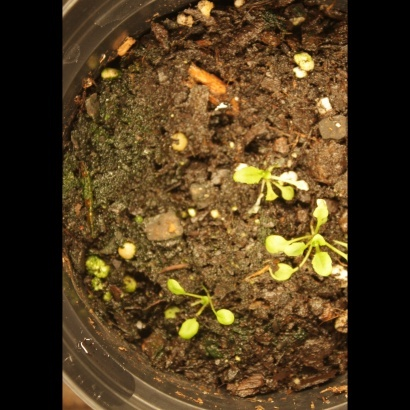leaf: (261, 257, 298, 286), (164, 274, 196, 301), (229, 162, 264, 185), (311, 198, 335, 231), (178, 311, 202, 343), (215, 303, 243, 330), (311, 250, 335, 280), (264, 231, 287, 260), (280, 182, 303, 205), (259, 185, 282, 208), (309, 227, 332, 250), (285, 238, 308, 261)
